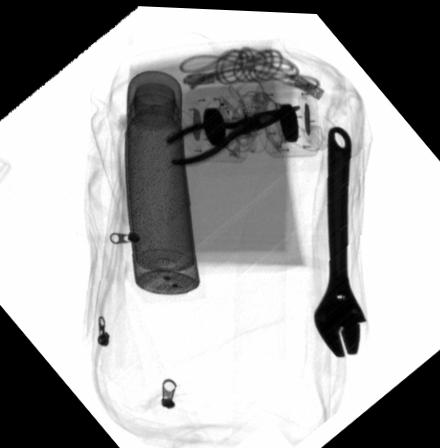Pliers: (163, 97, 301, 169)
Wrench: (310, 120, 367, 354)
